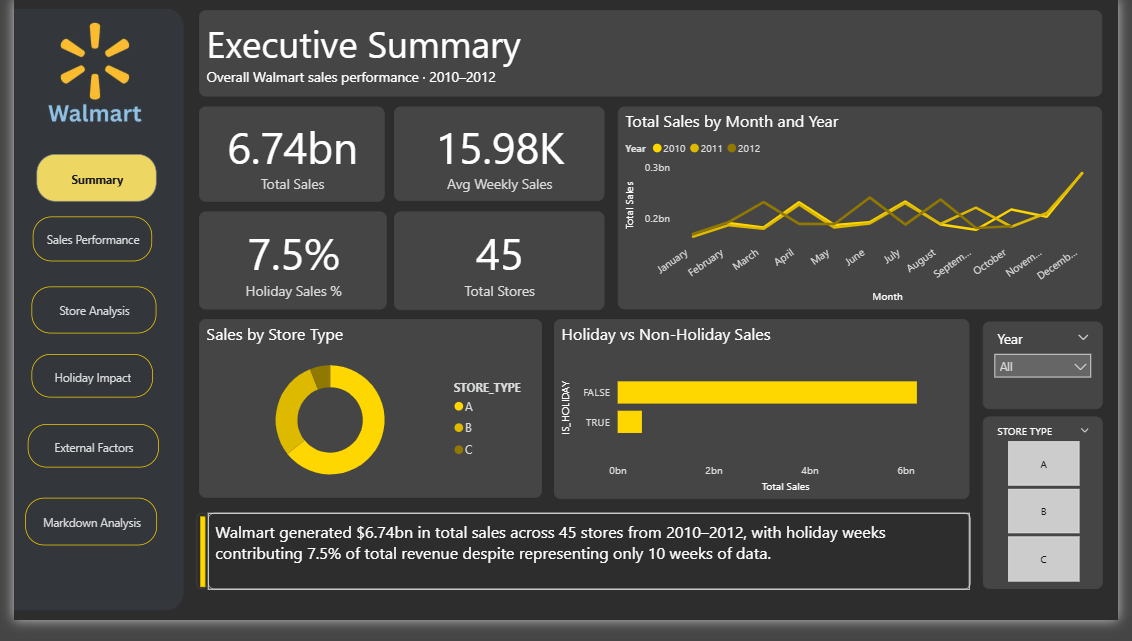

What the dashboard file says about the page in this screenshot:
{"tool":"powerbi","page":{"name":"1.Executive Summary","canvas":[1280,720],"ordinal":0},"visuals":[{"type":"card","fields":{"Values":["WALMART_CLEAN.Total Sales"]},"box":[215.2,125.3,215.2,110.1],"z":0},{"type":"card","fields":{"Values":["WALMART_CLEAN.Total Stores"]},"box":[440.8,246.5,243.7,114.1],"z":1000},{"type":"card","fields":{"Values":["WALMART_CLEAN.Avg Weekly Sales"]},"box":[440.8,125.4,243.7,109.9],"z":2000},{"type":"card","fields":{"Values":["WALMART_CLEAN.Holiday Sales %"]},"box":[215.2,246.8,217.7,113.9],"z":3000},{"type":"lineChart","fields":{"Category":["WALMART_CLEAN.SALE_DATE.Variation.Date Hierarchy.Month"],"Y":["WALMART_CLEAN.Total Sales"],"Series":["WALMART_CLEAN.SALE_DATE.Variation.Date Hierarchy.Year"]},"box":[700,125.4,562,235.2],"z":4000},{"type":"donutChart","title":"Sales by Store Type","fields":{"Y":["WALMART_CLEAN.Total Sales"],"Category":["WALMART_CLEAN.STORE_TYPE"]},"box":[215.2,370.9,397.5,207.6],"z":5000},{"type":"clusteredBarChart","title":"Holiday vs Non-Holiday Sales","fields":{"Y":["WALMART_CLEAN.Total Sales"],"Category":["WALMART_CLEAN.IS_HOLIDAY"]},"box":[626.8,370.4,481.7,208.5],"z":6000},{"type":"slicer","fields":{"Values":["WALMART_CLEAN.SALE_DATE.Variation.Date Hierarchy.Year"]},"box":[1122.5,373.2,139.4,101.4],"z":7000},{"type":"slicer","fields":{"Values":["WALMART_CLEAN.STORE_TYPE"]},"box":[1122.5,484.5,139.4,200],"z":8000},{"type":"textbox","box":[215.2,12.7,1046.8,100],"z":9000},{"type":"actionButton","box":[22.2,251.9,138.3,51.9],"z":12000},{"type":"actionButton","box":[21,333.3,144.4,54.3],"z":13000},{"type":"actionButton","box":[19.8,411.1,140.7,50.6],"z":14000},{"type":"actionButton","box":[16,492.6,151.9,50.6],"z":15000},{"type":"actionButton","box":[13.6,577.8,153.1,55.6],"z":16000},{"type":"actionButton","box":[25.9,180.2,139.5,55.6],"z":17000},{"type":"textbox","box":[224.1,596.2,884.8,88.6],"z":18000},{"type":"shape","box":[211.4,596.2,12.7,88.6],"z":19000}]}

Visuals, with their boxes in screenshot pixels (x1, y1, x2, y2), scaled from the page's 1280x720 canvas onto the 1132x641 screenshot:
card - WALMART_CLEAN.Total Sales: (left=190, top=112, right=381, bottom=210)
card - WALMART_CLEAN.Total Stores: (left=390, top=219, right=605, bottom=321)
card - WALMART_CLEAN.Avg Weekly Sales: (left=390, top=112, right=605, bottom=209)
card - WALMART_CLEAN.Holiday Sales %: (left=190, top=220, right=383, bottom=321)
lineChart - WALMART_CLEAN.SALE_DATE.Variation.Date Hierarchy.Month x WALMART_CLEAN.Total Sales: (left=619, top=112, right=1116, bottom=321)
"Sales by Store Type" donutChart: (left=190, top=330, right=542, bottom=515)
"Holiday vs Non-Holiday Sales" clusteredBarChart: (left=554, top=330, right=980, bottom=515)
slicer - WALMART_CLEAN.SALE_DATE.Variation.Date Hierarchy.Year: (left=993, top=332, right=1116, bottom=423)
slicer - WALMART_CLEAN.STORE_TYPE: (left=993, top=431, right=1116, bottom=609)
textbox: (left=190, top=11, right=1116, bottom=100)
actionButton: (left=20, top=224, right=142, bottom=270)
actionButton: (left=19, top=297, right=146, bottom=345)
actionButton: (left=18, top=366, right=142, bottom=411)
actionButton: (left=14, top=439, right=148, bottom=484)
actionButton: (left=12, top=514, right=147, bottom=564)
actionButton: (left=23, top=160, right=146, bottom=210)
textbox: (left=198, top=531, right=981, bottom=610)
shape: (left=187, top=531, right=198, bottom=610)
